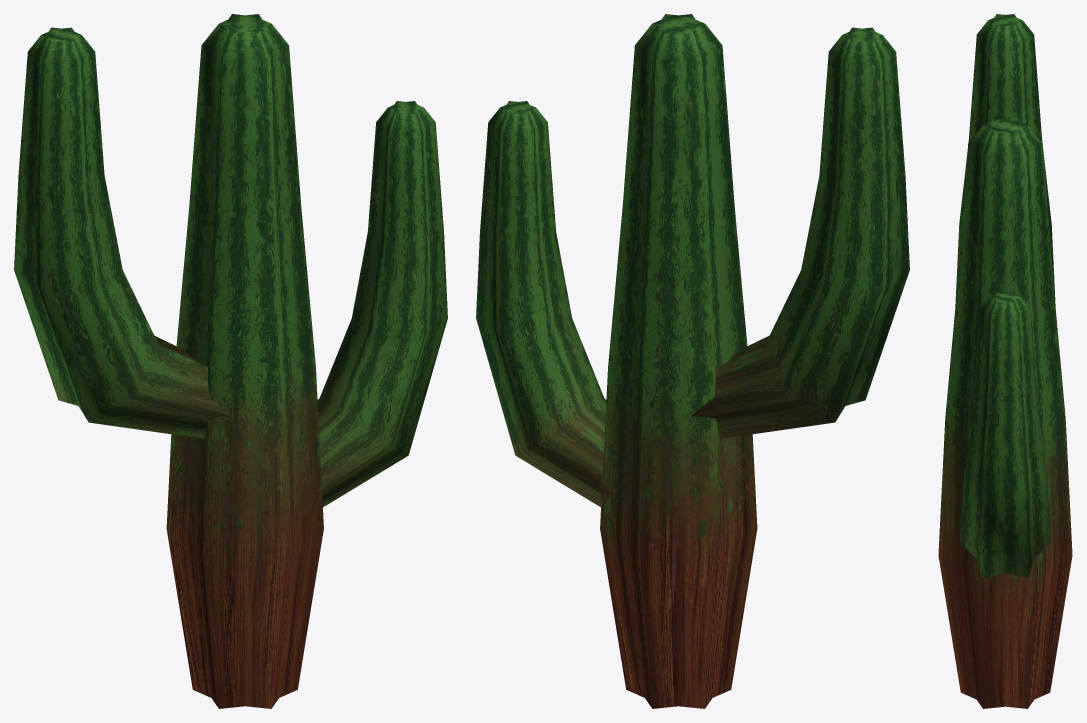
File: cactus_no_spikes.fbx
The picture shows the model from 3 angles, left to right: view 1: azimuth 30°, elevation 25°; view 2: azimuth 150°, elevation 25°; view 3: azimuth 270°, elevation 25°; orthographic projection. The views are drawn at different scales.
Parts seen in each view (by area): view 1: cactus; view 2: cactus; view 3: cactus.
Boxes of the visible parts, box(x1,y1,x2,y2) form: cactus: box(14, 14, 447, 708); cactus: box(476, 14, 909, 708); cactus: box(938, 14, 1072, 708).
Bounding box in the file's own units: 1.57 × 2.56 × 0.5227.
2 materials, 1 textured.
